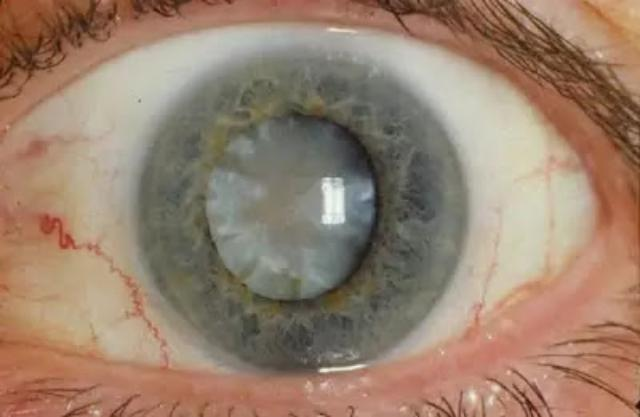eye: (130, 44, 473, 372)
